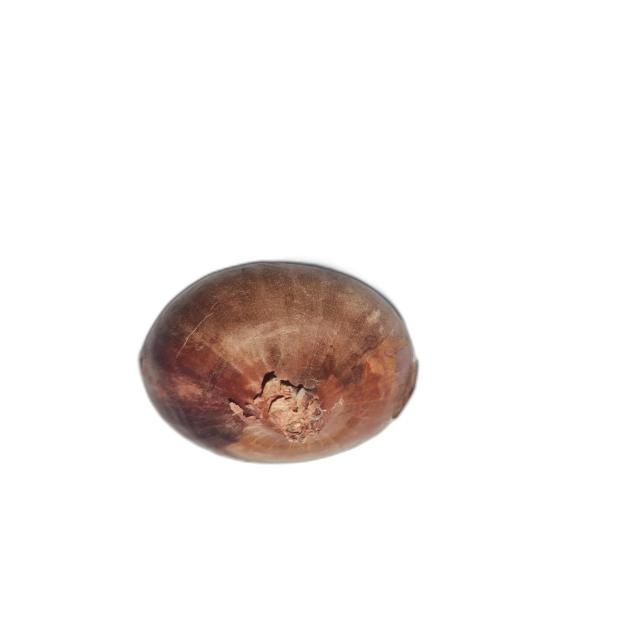onion: (138, 262, 419, 463)
